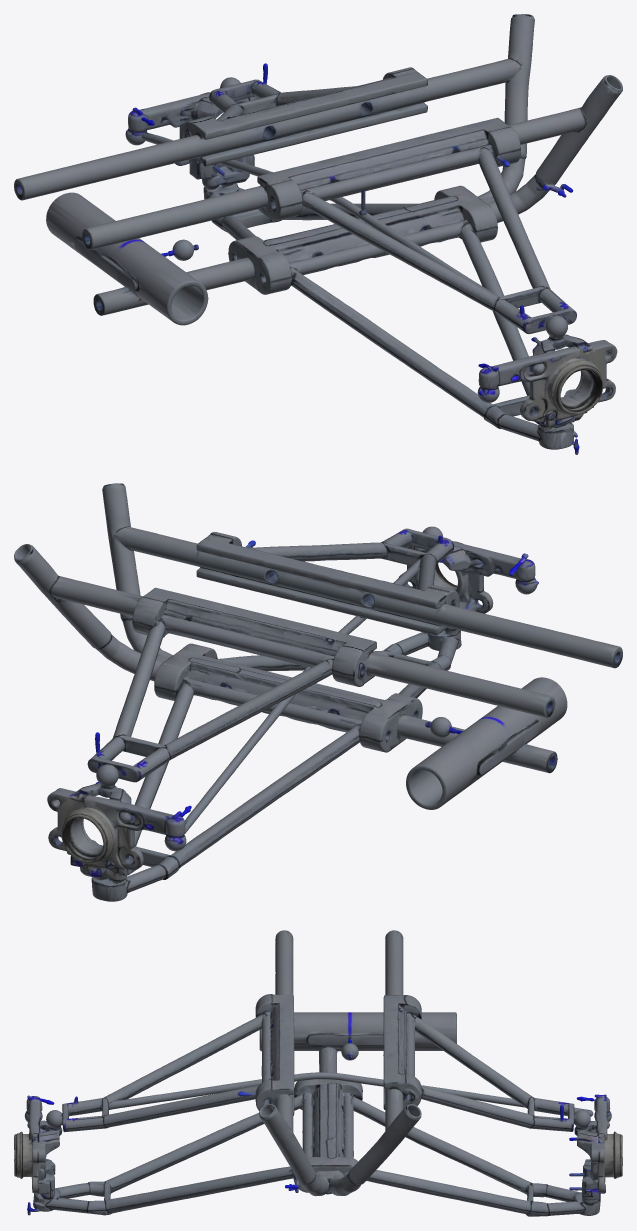
File: fuel-pump-module.glb
3 views of the same model, one above another, from view 1: azimuth 30°, elevation 25°; view 2: azimuth 150°, elevation 25°; view 3: azimuth 270°, elevation 25° (orthographic). The views are drawn at different scales.
Visible parts, largest first — view 1: aiprintgen_node_50cc7f82-810f-4d8c-95d6-c889bfb51a5d; view 2: aiprintgen_node_50cc7f82-810f-4d8c-95d6-c889bfb51a5d; view 3: aiprintgen_node_50cc7f82-810f-4d8c-95d6-c889bfb51a5d.
Boxes of the visible parts, <box> form: aiprintgen_node_50cc7f82-810f-4d8c-95d6-c889bfb51a5d: <box>14,14,622,454</box>; aiprintgen_node_50cc7f82-810f-4d8c-95d6-c889bfb51a5d: <box>14,483,622,901</box>; aiprintgen_node_50cc7f82-810f-4d8c-95d6-c889bfb51a5d: <box>14,930,622,1216</box>.
Bounding box in the file's own units: 0.8056 × 0.3295 × 1.
Materials: 1 (1 with a texture image).
